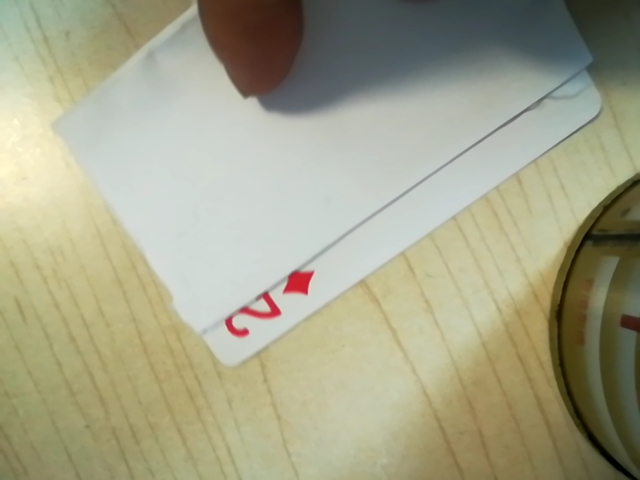fk 2: (210, 269, 317, 342)
